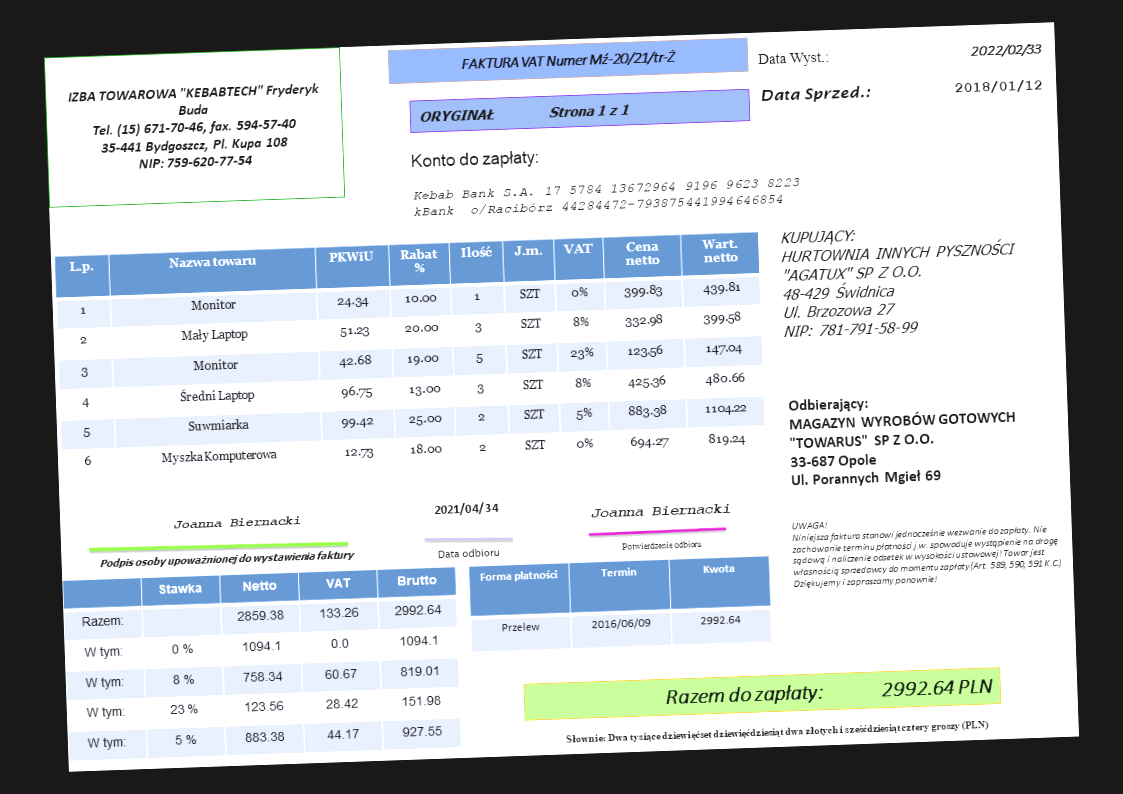Table: (53, 231, 767, 481), (63, 565, 463, 762), (468, 555, 772, 653)
TextBox: (778, 220, 1020, 341), (66, 80, 324, 176), (786, 389, 1020, 491), (790, 509, 1065, 591), (411, 174, 804, 220), (563, 717, 991, 747), (663, 675, 995, 710), (97, 547, 354, 571), (459, 48, 678, 74), (418, 100, 633, 125), (408, 146, 541, 174), (588, 501, 732, 521), (759, 82, 871, 106), (172, 513, 302, 532), (952, 76, 1045, 96), (755, 48, 830, 68), (967, 41, 1045, 60), (431, 499, 500, 519), (620, 538, 703, 553), (435, 546, 500, 561)
